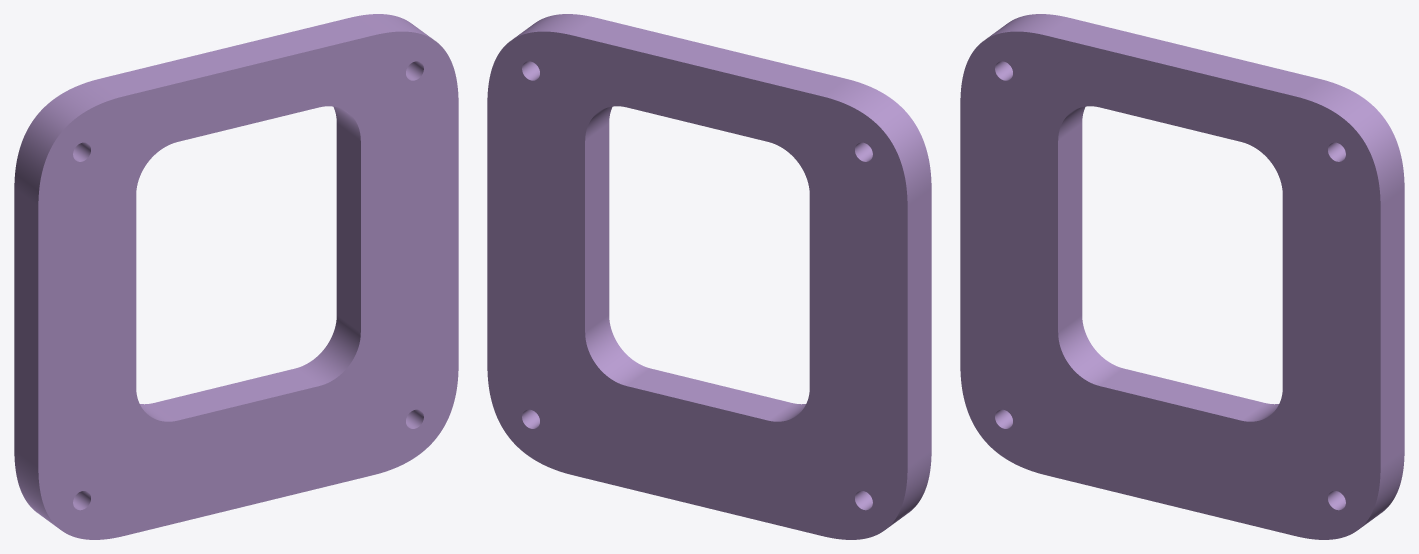
File: Main_Soporte.dae
3 renders of one model, left to right at view 1: azimuth 30°, elevation 25°; view 2: azimuth 150°, elevation 25°; view 3: azimuth 330°, elevation 25°, orthographic.
Parts seen in each view (by area): view 1: Main_Soporte; view 2: Main_Soporte; view 3: Main_Soporte.
Part boxes in pixels (x1=…): Main_Soporte: x1=14, y1=14, x2=458, y2=539; Main_Soporte: x1=487, y1=14, x2=931, y2=539; Main_Soporte: x1=960, y1=14, x2=1404, y2=539.
Bounding box in the file's own units: 0.101 × 0.01 × 0.101.
